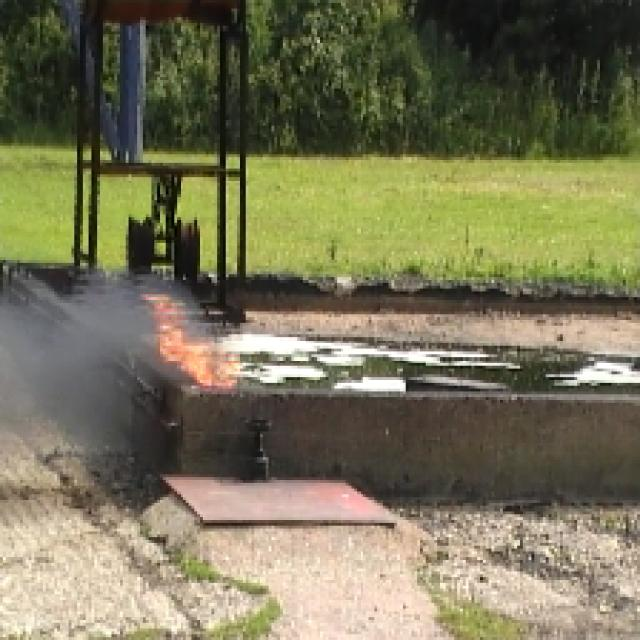smoke: (49, 308, 120, 408)
